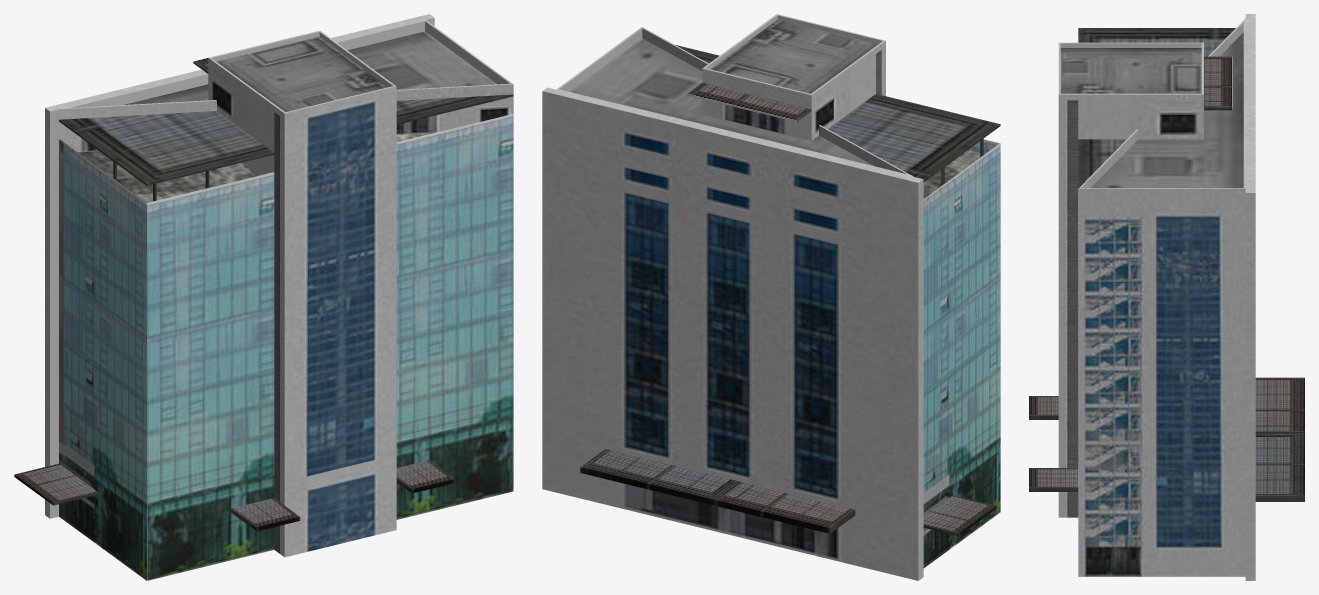
3 renders of one model, left to right at view 1: azimuth 30°, elevation 25°; view 2: azimuth 150°, elevation 25°; view 3: azimuth 270°, elevation 25°, orthographic. The views are drawn at different scales.
Parts seen in each view (by area): view 1: HN437___Mitec_Building; view 2: HN437___Mitec_Building; view 3: HN437___Mitec_Building.
Boxes of the visible parts, <box> form: HN437___Mitec_Building: <box>14,14,513,580</box>; HN437___Mitec_Building: <box>542,14,1000,580</box>; HN437___Mitec_Building: <box>1029,14,1304,580</box>.
Bounding box in the file's own units: 47 × 47.4 × 28.
1 material, 1 textured.
